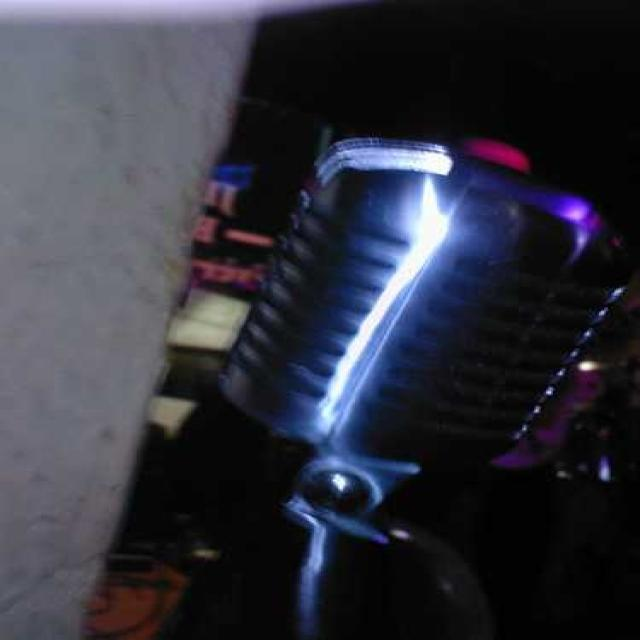microphone: (184, 127, 626, 628)
